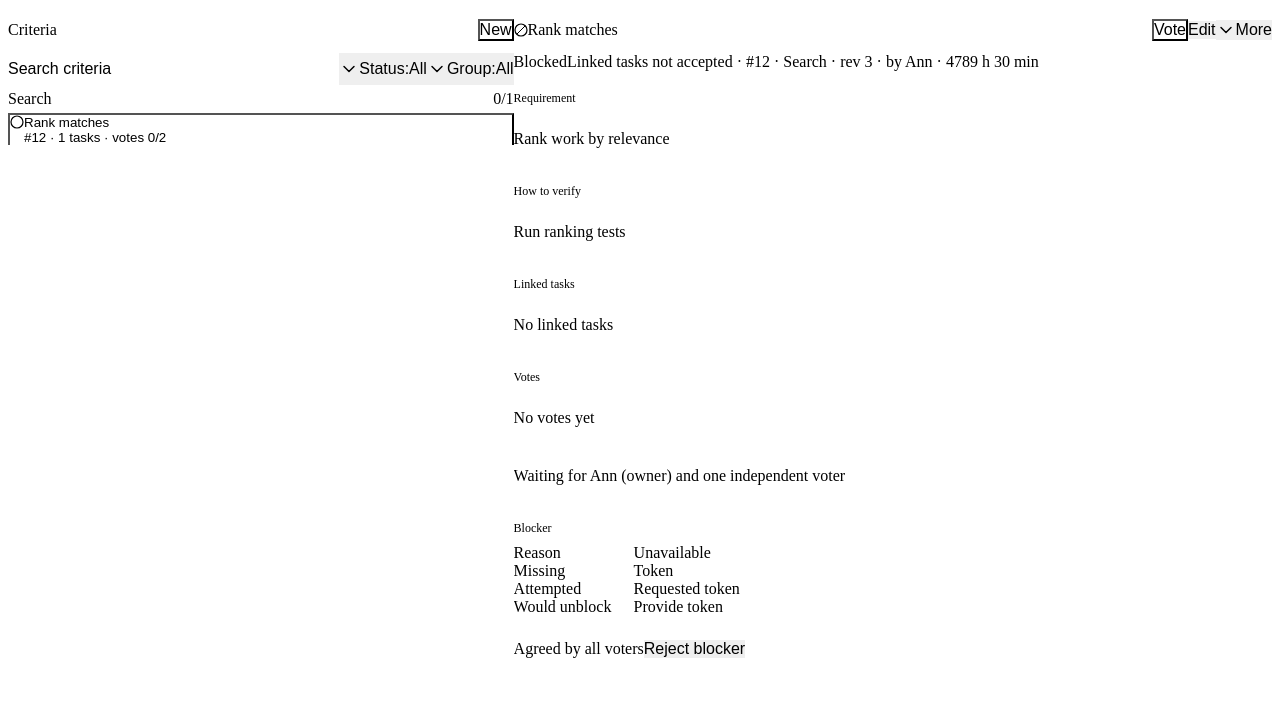
Test: Criteria work board › confirms rejection with the blocker revision and requires a revised blocker before voting
The image size is (1280, 711).
Step 1. Click the button "Reject blocker" → (694, 648), box x1=644 y1=640 x2=745 y2=658
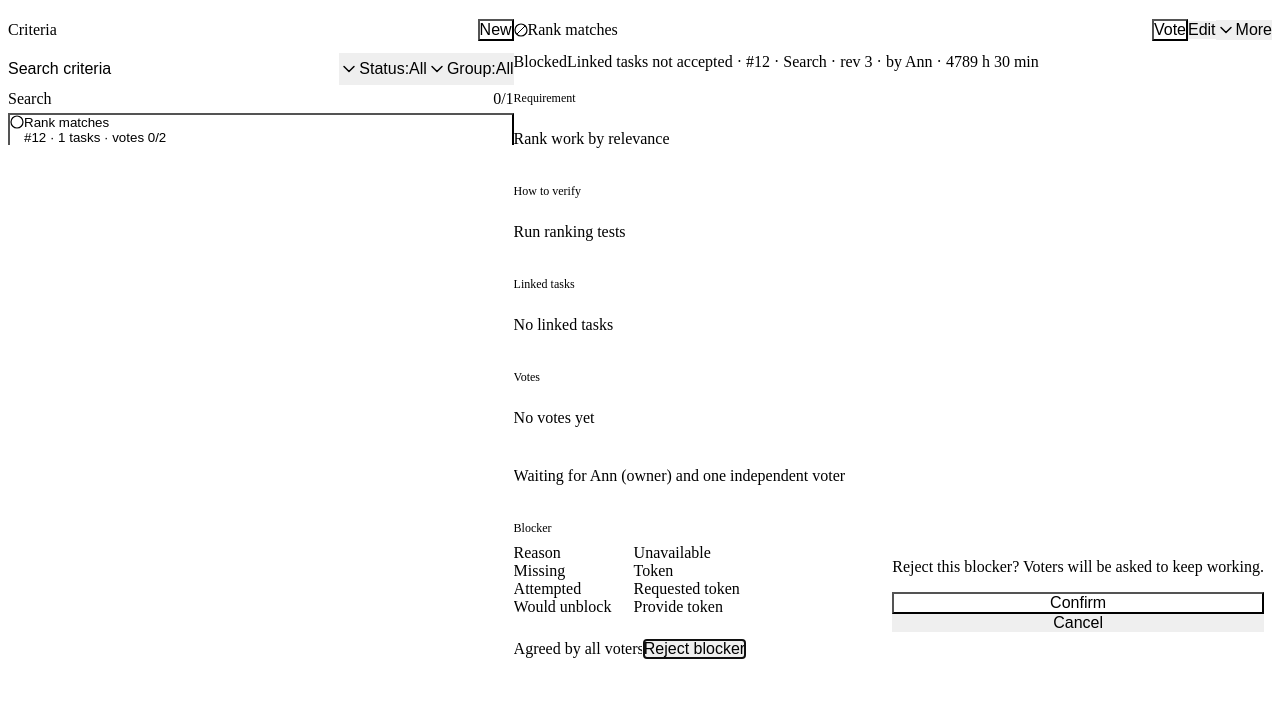
Expected: the text "Agreed by all voters" is shown, x1=514 y1=640 x2=644 y2=658
Now the text "Reject this blocker? Voters will be asked to keep working." is shown, box x1=892 y1=558 x2=1264 y2=576
Step 2. Click the button "Confirm" → (1078, 602), box x1=892 y1=592 x2=1264 y2=614
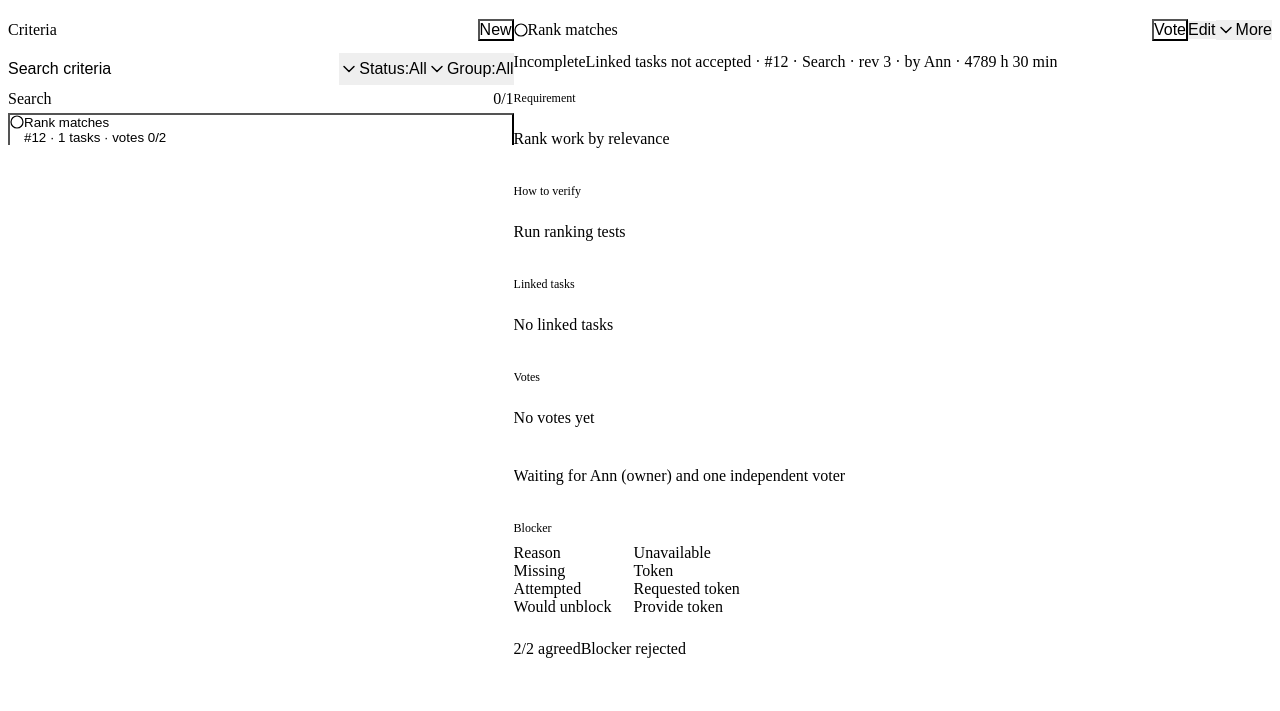
Now the text "Blocker rejected" is shown, box x1=581 y1=640 x2=686 y2=658
Now the button "Reject blocker" is gone
Step 3. Click the button "Vote" → (1170, 30), box x1=1152 y1=19 x2=1188 y2=41
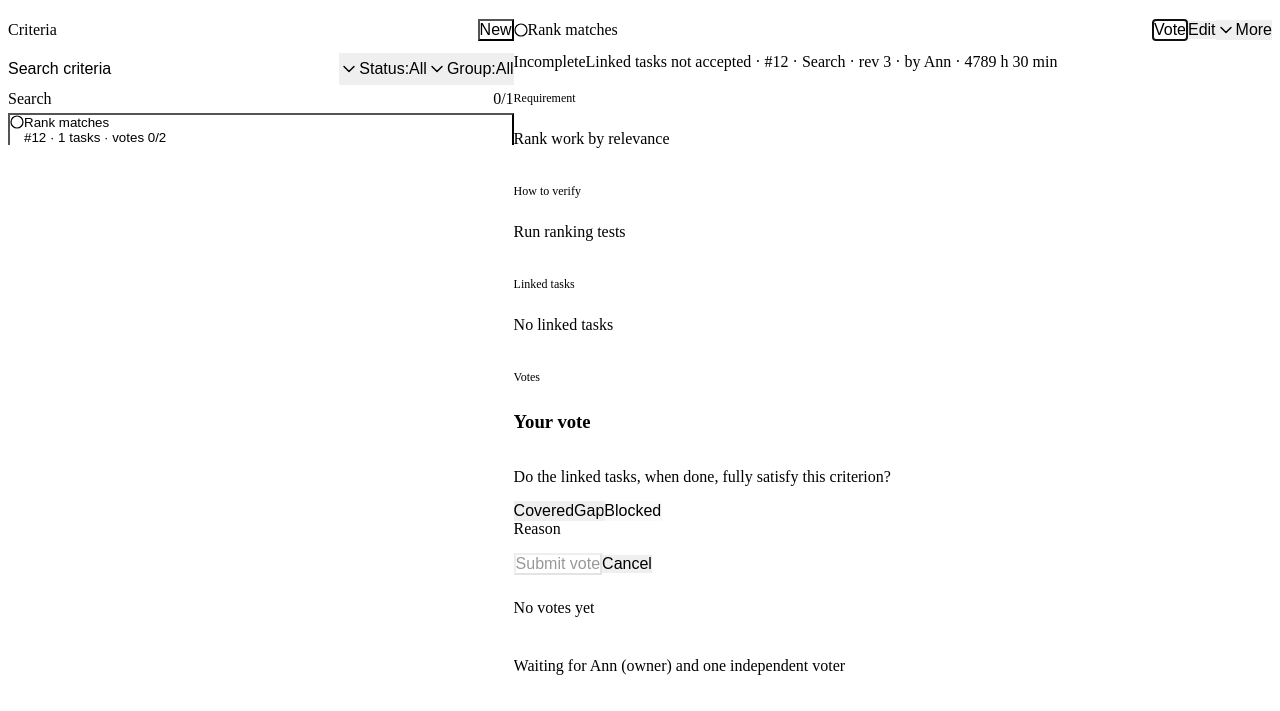
Now the radio button labelled "Blocked" is disabled, box x1=603 y1=501 x2=662 y2=521
